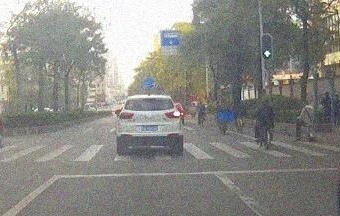L_light: (119, 112, 134, 119)
R_light: (165, 111, 180, 118)
T_light: (143, 98, 154, 100)
day-right: (116, 95, 183, 154)
